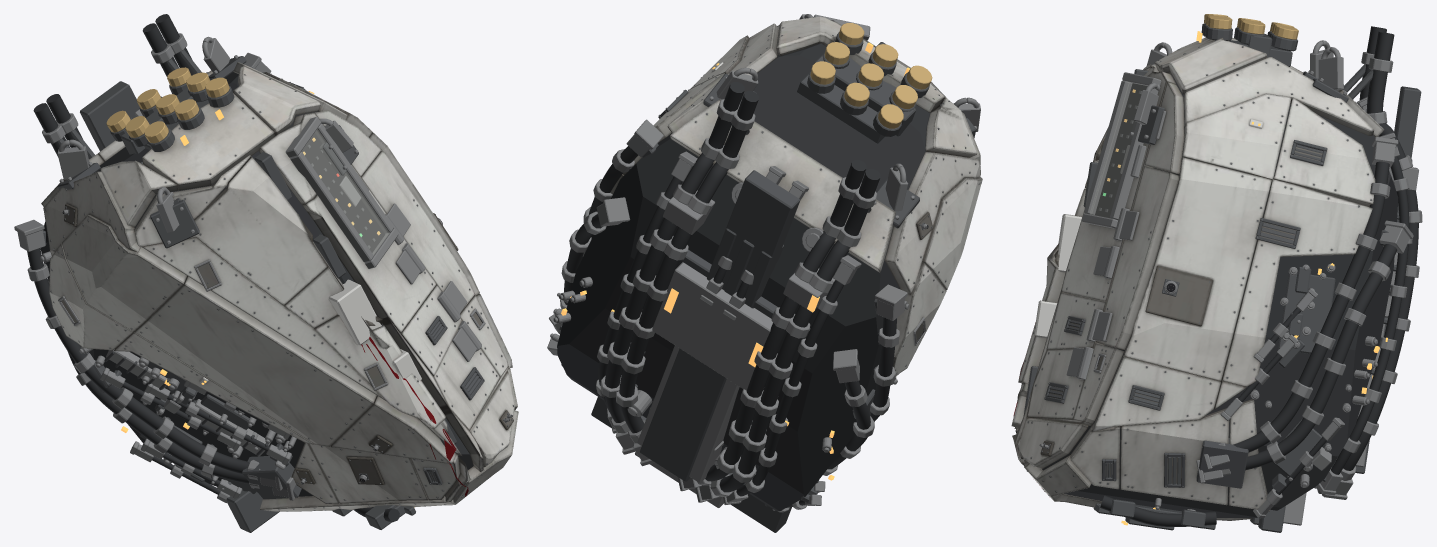
The model's file is cocoon.glb.
3 views of the same model, side by side, from view 1: azimuth 30°, elevation 25°; view 2: azimuth 150°, elevation 25°; view 3: azimuth 270°, elevation 25° (orthographic). The views are drawn at different scales.
Parts seen in each view (by area): view 1: plates, door_plates, clamps, mech, hoses, pod, door_frame, collars, door_window, lugs, lug_plates, blocks (+9 smaller); view 2: pod, plates, clamps, hoses, mech, spine_plate, collars, deck, lugs, lug_plates, lamps; view 3: plates, pod, hoses, clamps, mech, door_plates, detail_mech_pod, door_frame, door_window, lugs, door_board, detail_steel_door (+10 smaller).
Boxes of the visible parts, bbox=[...] form: plates: bbox=[41, 62, 518, 511]; door_plates: bbox=[259, 112, 500, 430]; clamps: bbox=[14, 33, 300, 502]; mech: bbox=[43, 50, 456, 532]; hoses: bbox=[27, 14, 269, 494]; pod: bbox=[40, 72, 473, 496]; door_frame: bbox=[285, 117, 398, 268]; collars: bbox=[106, 67, 229, 143]; door_window: bbox=[301, 129, 389, 254]; lugs: bbox=[57, 36, 358, 244]; lug_plates: bbox=[57, 56, 358, 248]; blocks: bbox=[329, 279, 421, 380]; pod: bbox=[557, 43, 933, 511]; plates: bbox=[610, 16, 982, 376]; clamps: bbox=[549, 99, 909, 512]; hoses: bbox=[564, 82, 896, 507]; mech: bbox=[559, 42, 916, 532]; spine_plate: bbox=[547, 262, 819, 507]; collars: bbox=[810, 23, 932, 128]; deck: bbox=[797, 32, 929, 143]; lugs: bbox=[709, 14, 980, 219]; lug_plates: bbox=[703, 73, 976, 228]; lamps: bbox=[561, 288, 834, 480]; plates: bbox=[1011, 37, 1384, 520]; pod: bbox=[1042, 74, 1398, 517]; hoses: bbox=[1233, 26, 1418, 494]; clamps: bbox=[1155, 52, 1422, 518]; mech: bbox=[1023, 34, 1421, 532]; door_plates: bbox=[1027, 66, 1175, 419]; detail_mech_pod: bbox=[1047, 140, 1327, 487]; door_frame: bbox=[1082, 72, 1161, 228]; door_window: bbox=[1090, 82, 1147, 217]; lugs: bbox=[1129, 40, 1347, 138]; door_board: bbox=[1095, 83, 1147, 217]; detail_steel_door: bbox=[1066, 144, 1146, 379].
Bounding box in the file's own units: 2.25 × 2.79 × 2.14.
17 materials, 1 textured.
